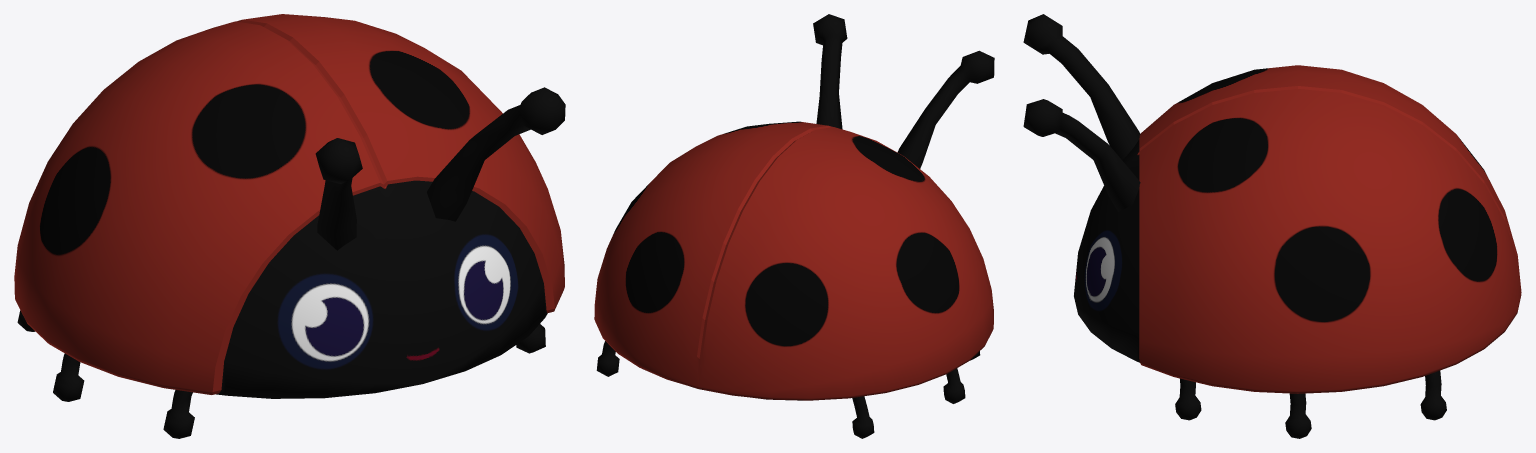
The picture shows the model from 3 angles, left to right: view 1: azimuth 30°, elevation 25°; view 2: azimuth 150°, elevation 25°; view 3: azimuth 270°, elevation 25°; orthographic projection. The views are drawn at different scales.
Parts seen in each view (by area): view 1: ladybug; view 2: ladybug; view 3: ladybug.
Boxes of the visible parts, x1,y1,x2,y2 form: ladybug: (14, 14, 565, 438); ladybug: (594, 14, 994, 438); ladybug: (1023, 14, 1521, 438).
Size of the model in its own units: 2.1 by 1.44 by 2.22.
Materials: 1 (1 with a texture image).
